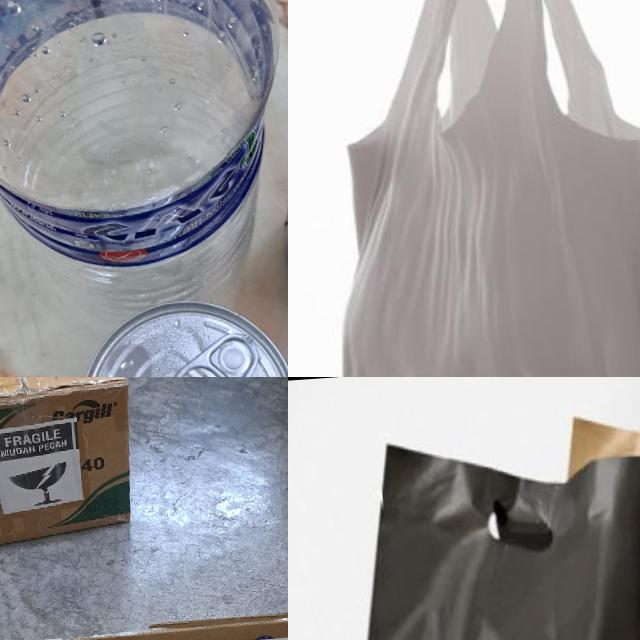aba de lata: (167, 334, 263, 377)
garrafa plástica: (0, 0, 288, 340)
lata: (68, 293, 288, 377)
papelão: (0, 377, 138, 550)
sacola plástica: (307, 0, 640, 377), (325, 415, 640, 640), (559, 382, 640, 640)
